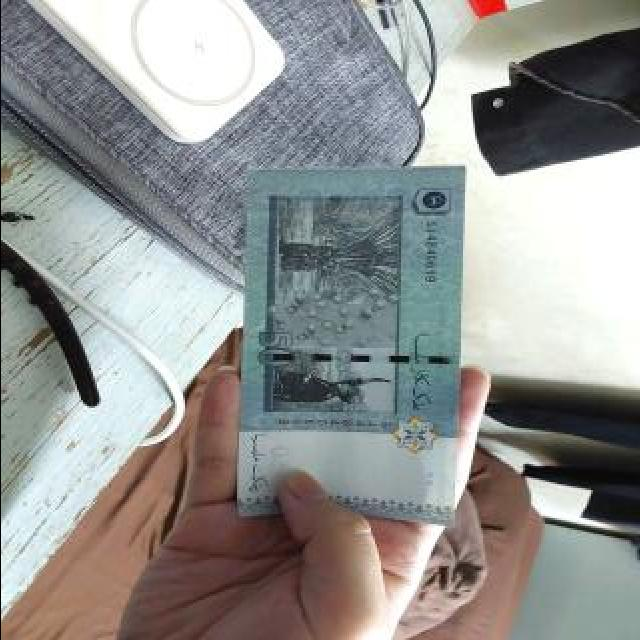50 Ringgit: (225, 160, 480, 527)
